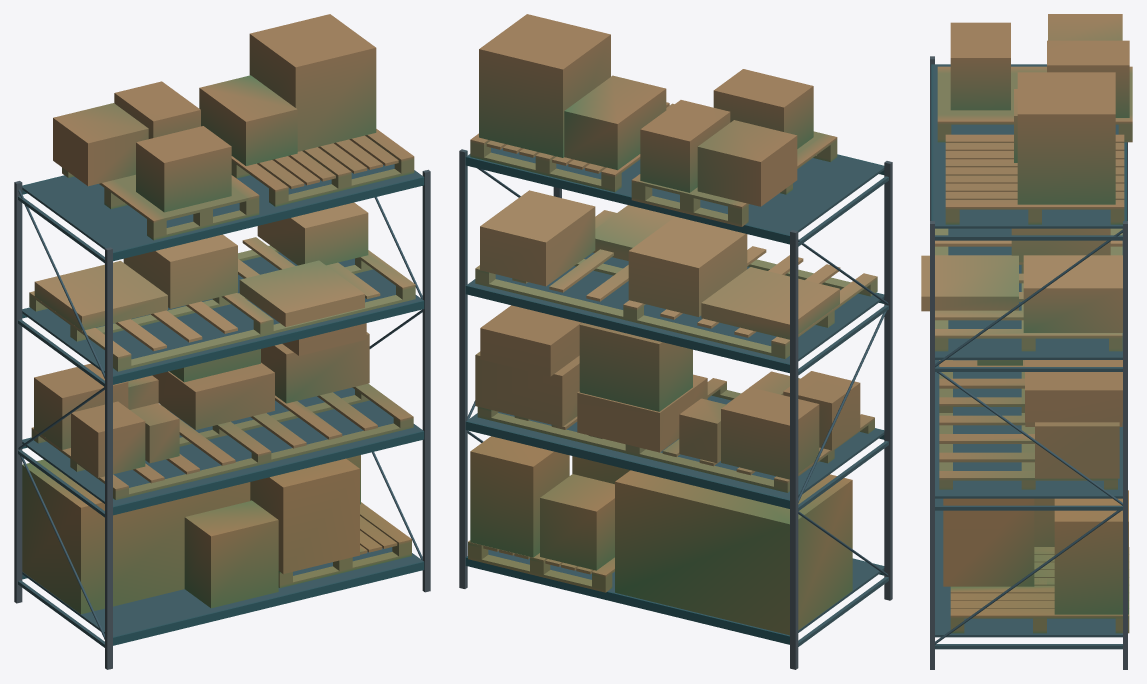
Rendered from simready-rack_composition_a04.glb.
The picture shows the model from 3 angles, left to right: view 1: azimuth 30°, elevation 25°; view 2: azimuth 150°, elevation 25°; view 3: azimuth 270°, elevation 25°; orthographic projection. The views are drawn at different scales.
Visible parts, largest first — view 1: carton, carton.009, pallet_core.001, pallet_core.002, carton.002, carton.001, shelf.001, shelf.003, pallet_core.004, carton.007, shelf.002, carton.008 (+28 smaller); view 2: carton, carton.009, carton.004, stack.007, pallet_core.002, stack.008, centre_top, carton.005, stack, carton.008, shelf.003, carton.003 (+29 smaller); view 3: carton.009, carton.002, carton.004, stack.008, pallet_core.001, shelf.001, pallet_core.004, end_top, shelf.002, carton.007, shelf.003, stack.009 (+20 smaller).
Part boxes in pixels (x1,y1,x2,y2): carton: (22, 459, 250, 614); carton.009: (249, 14, 376, 151); pallet_core.001: (31, 383, 413, 499); pallet_core.002: (29, 237, 415, 371); carton.002: (250, 458, 359, 573); carton.001: (184, 500, 278, 608); shelf.001: (22, 387, 422, 505); shelf.003: (22, 164, 422, 251); pallet_core.004: (231, 129, 414, 206); carton.007: (136, 126, 231, 212); shelf.002: (22, 252, 422, 375); carton.008: (199, 75, 297, 165); carton: (615, 470, 852, 635); carton.009: (479, 14, 610, 157); carton.004: (470, 436, 569, 557); stack.007: (628, 216, 747, 316); pallet_core.002: (475, 210, 877, 358); stack.008: (480, 190, 595, 286); centre_top: (579, 322, 692, 411); carton.005: (697, 120, 797, 206); stack: (721, 387, 819, 479); carton.008: (564, 75, 666, 170); shelf.003: (467, 147, 884, 234); carton.003: (540, 474, 614, 570); carton.009: (1017, 72, 1115, 204); carton.002: (943, 498, 1034, 586); carton.004: (1054, 490, 1128, 614); stack.008: (1023, 255, 1122, 332); pallet_core.001: (939, 360, 1117, 489); shelf.001: (935, 360, 1122, 498); pallet_core.004: (945, 134, 1124, 224); end_top: (1025, 360, 1122, 422); shelf.002: (935, 228, 1122, 359); carton.007: (950, 22, 1010, 110); shelf.003: (934, 64, 1122, 228); stack.009: (921, 255, 1018, 311).
Size of the model in its own units: 2.44 by 3.73 by 1.3.
